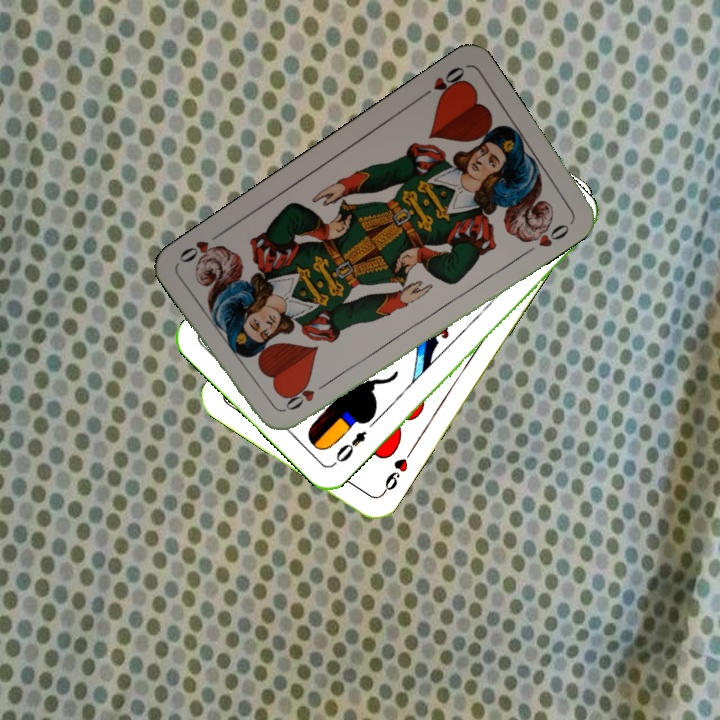EO: (328, 427, 370, 468)
H9: (377, 445, 416, 498)
HO: (415, 62, 469, 102), (278, 377, 331, 415)
